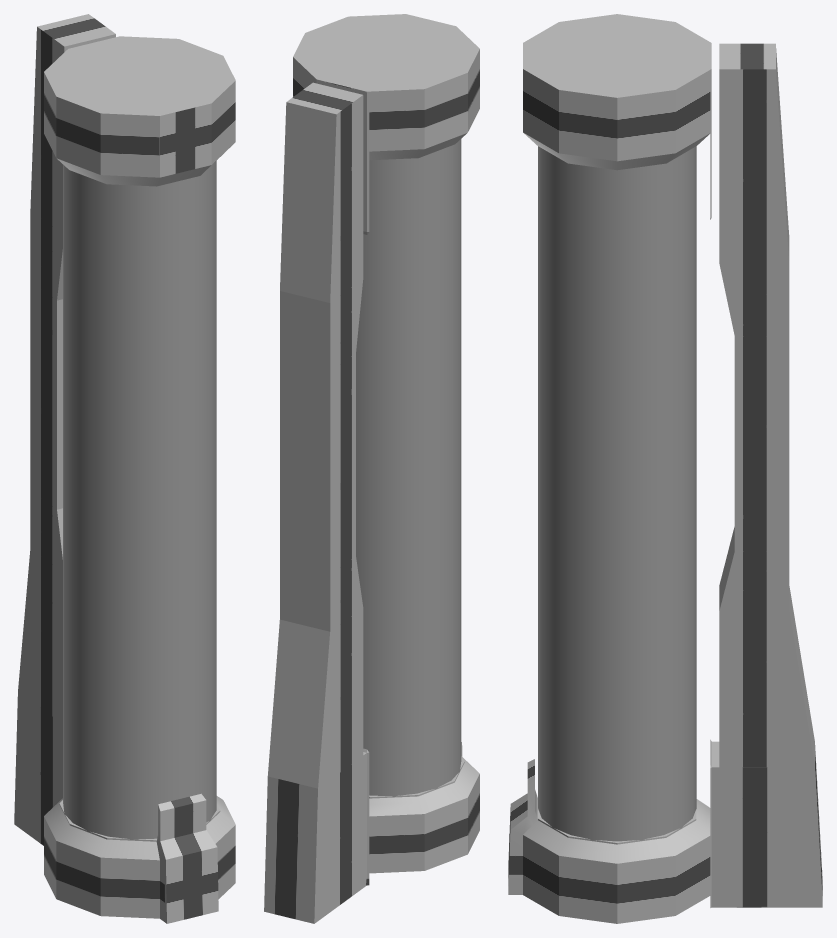
The picture shows the model from 3 angles, left to right: view 1: azimuth 30°, elevation 25°; view 2: azimuth 150°, elevation 25°; view 3: azimuth 270°, elevation 25°; orthographic projection. The views are drawn at different scales.
Visible parts, largest first — view 1: pCylinder10, pCylinder7, pCylinder4, pCylinder6; view 2: pCylinder7, pCylinder10, pCylinder4, pCylinder6; view 3: pCylinder10, pCylinder7, pCylinder4, pCylinder6.
Part boxes in pixels (x1=…): pCylinder10: x1=63, y1=161, x2=216, y2=839; pCylinder7: x1=14, y1=14, x2=115, y2=845; pCylinder4: x1=44, y1=36, x2=235, y2=186; pCylinder6: x1=44, y1=793, x2=235, y2=923; pCylinder7: x1=264, y1=79, x2=369, y2=923; pCylinder10: x1=356, y1=139, x2=461, y2=796; pCylinder4: x1=293, y1=14, x2=479, y2=160; pCylinder6: x1=369, y1=742, x2=479, y2=873; pCylinder10: x1=538, y1=146, x2=696, y2=841; pCylinder7: x1=710, y1=43, x2=822, y2=907; pCylinder4: x1=523, y1=14, x2=711, y2=170; pCylinder6: x1=508, y1=759, x2=710, y2=923.
Size of the model in its own units: 4 by 18.64 by 6.34.
Materials: 2 (1 with a texture image).
